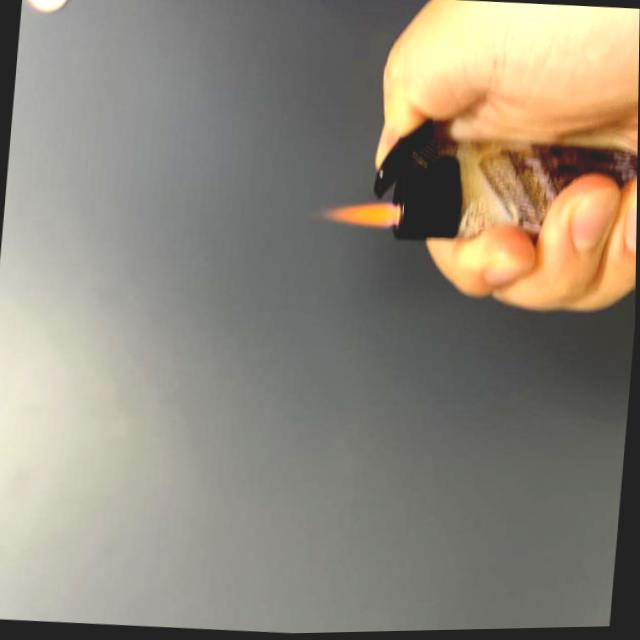Fire: (324, 193, 401, 236)
